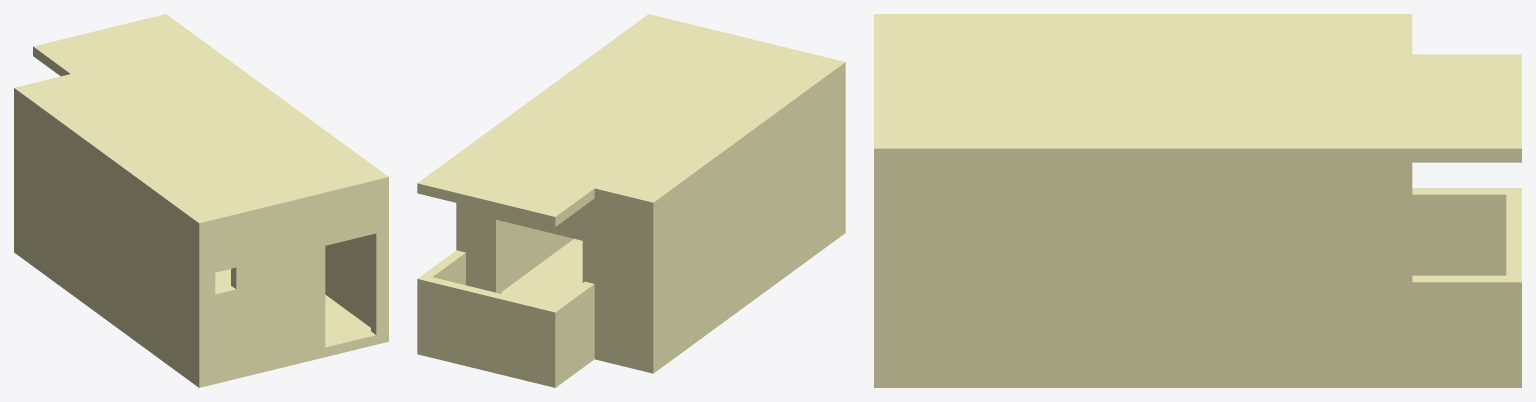
File: oneBR.gltf
3 views of the same model, side by side, from view 1: azimuth 30°, elevation 25°; view 2: azimuth 150°, elevation 25°; view 3: azimuth 270°, elevation 25° (orthographic). The views are drawn at different scales.
Bounding box in the file's own units: 4.1 × 3.4 × 8.34.
